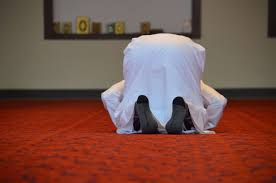sujud: (100, 32, 227, 136)
